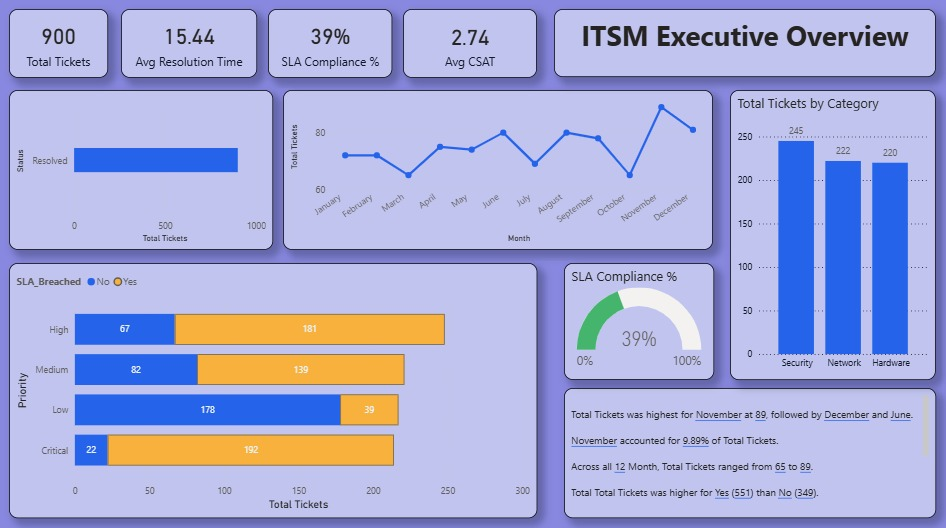

The dashboard page shown, as its layout file describes it:
{"tool":"powerbi","page":{"name":"Page 1","canvas":[1280,720],"ordinal":0},"visuals":[{"type":"card","fields":{"Values":["itsm_tickets_900.Total Tickets"]},"box":[14.1,16.7,133.7,92.5],"z":0},{"type":"gauge","fields":{"Y":["itsm_tickets_900.SLA Compliance %"]},"box":[763.5,359.5,202.7,158.1],"z":1000},{"type":"card","fields":{"Values":["itsm_tickets_900.Avg Resolution Time"]},"box":[164.5,16.7,183.8,92.5],"z":2000},{"type":"barChart","fields":{"Category":["itsm_tickets_900.Priority"],"Y":["itsm_tickets_900.Total Tickets"],"Series":["itsm_tickets_900.SLA_Breached"]},"box":[13.5,359.5,713.5,344.6],"z":4000},{"type":"card","fields":{"Values":["itsm_tickets_900.SLA Compliance %"]},"box":[363.7,16.7,168.4,92.5],"z":5000},{"type":"card","fields":{"Values":["itsm_tickets_900.Avg CSAT"]},"box":[545.9,16.2,181.1,93.2],"z":6000},{"type":"lineChart","title":"Tickets Trend by Month","fields":{"Category":["DateTable.Date.Variation.Date Hierarchy.Month"],"Y":["itsm_tickets_900.Total Tickets"]},"box":[13.5,125.7,951.4,216.2],"z":7000},{"type":"textbox","title":"Smart Narrative ","box":[763.5,528.4,502.7,175.7],"z":8000},{"type":"textbox","box":[750,16.2,516.2,91.9],"z":9000},{"type":"clusteredColumnChart","title":" Tickets by Category","fields":{"Category":["itsm_tickets_900.Category"],"Y":["itsm_tickets_900.Total Tickets"]},"box":[987.8,125.7,278.4,391.9],"z":9001},{"type":"actionButton","box":[1198.6,644.6,50,40.5],"z":9002}]}

Visuals, with their boxes in screenshot pixels (x1, y1, x2, y2), scaled from the page's 1280x720 canvas onto the 946x528 screenshot:
card - itsm_tickets_900.Total Tickets: (x1=10, y1=12, x2=109, y2=80)
gauge - itsm_tickets_900.SLA Compliance %: (x1=564, y1=264, x2=714, y2=380)
card - itsm_tickets_900.Avg Resolution Time: (x1=122, y1=12, x2=257, y2=80)
barChart - itsm_tickets_900.Priority x itsm_tickets_900.Total Tickets: (x1=10, y1=264, x2=537, y2=516)
card - itsm_tickets_900.SLA Compliance %: (x1=269, y1=12, x2=393, y2=80)
card - itsm_tickets_900.Avg CSAT: (x1=403, y1=12, x2=537, y2=80)
"Tickets Trend by Month" lineChart: (x1=10, y1=92, x2=713, y2=251)
"Smart Narrative " textbox: (x1=564, y1=387, x2=936, y2=516)
textbox: (x1=554, y1=12, x2=936, y2=79)
" Tickets by Category" clusteredColumnChart: (x1=730, y1=92, x2=936, y2=380)
actionButton: (x1=886, y1=473, x2=923, y2=502)
